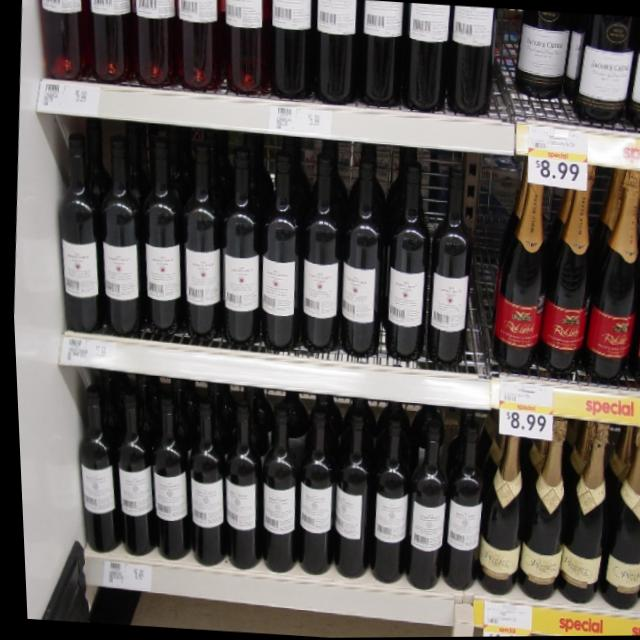q202: (479, 155, 558, 383), (531, 170, 603, 387), (577, 173, 640, 387)
